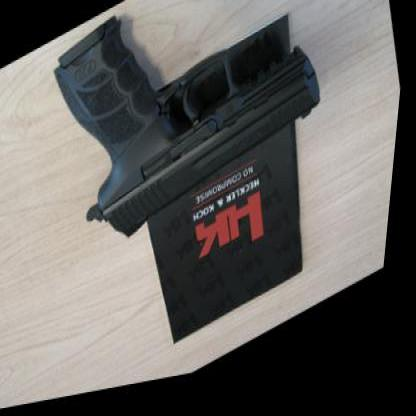pistol: (29, 0, 347, 280)
